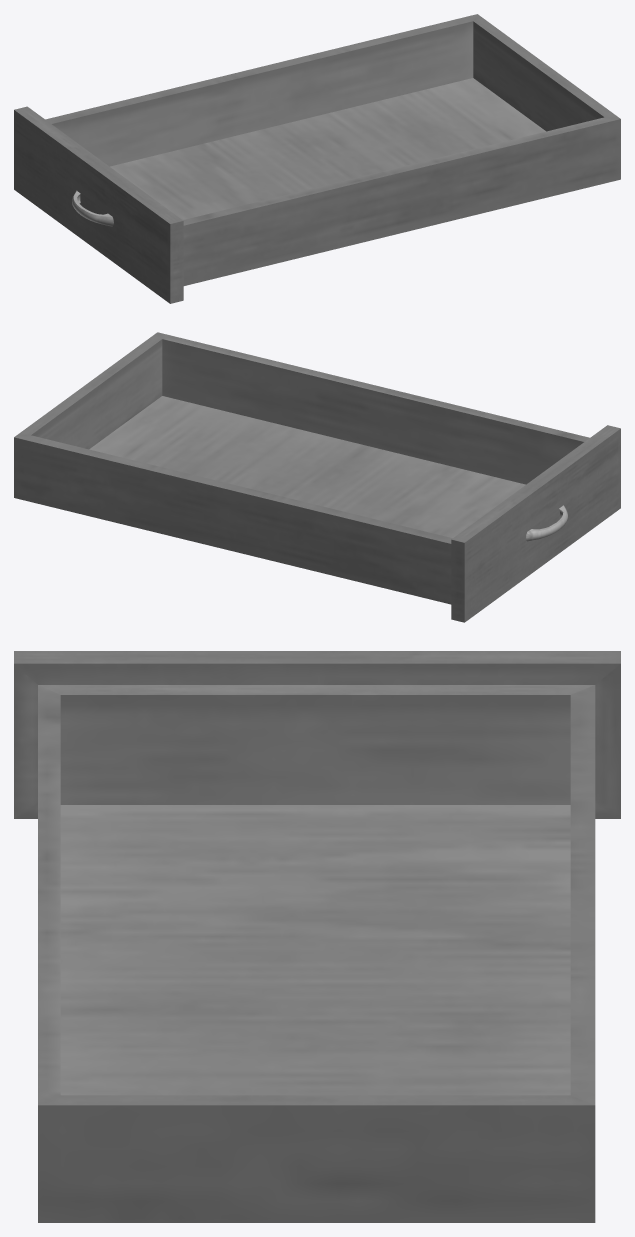
File: SM_WorkingTable_A1_Cab1.fbx
The picture shows the model from 3 angles, top to bottom: view 1: azimuth 30°, elevation 25°; view 2: azimuth 150°, elevation 25°; view 3: azimuth 270°, elevation 25°; orthographic projection. The views are drawn at different scales.
Parts seen in each view (by area): view 1: SM_WorkingTable_A1_Cab1; view 2: SM_WorkingTable_A1_Cab1; view 3: SM_WorkingTable_A1_Cab1.
Part boxes in pixels (left/top/right/bottom): SM_WorkingTable_A1_Cab1: left=14, top=14, right=620, bottom=303; SM_WorkingTable_A1_Cab1: left=14, top=332, right=620, bottom=622; SM_WorkingTable_A1_Cab1: left=14, top=651, right=620, bottom=1222.
Bounding box in the file's own units: 76.29 × 43.77 × 12.34.
Materials: 1 (1 with a texture image).
